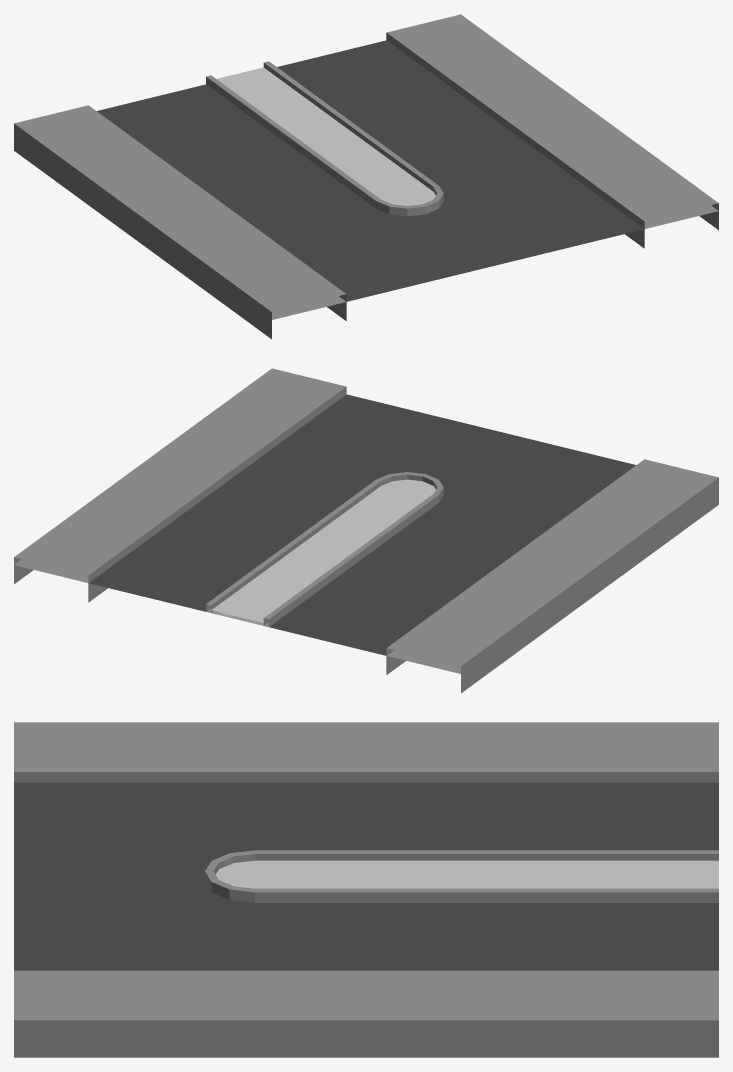
3 views of the same model, one above another, from view 1: azimuth 30°, elevation 25°; view 2: azimuth 150°, elevation 25°; view 3: azimuth 270°, elevation 25° (orthographic). The views are drawn at different scales.
Visible parts, largest first — view 1: Model_0, Skybox, Grass; view 2: Model_0, Grass, Skybox; view 3: Model_0, Skybox, Grass.
Boxes of the visible parts, bbox=[...] form: Model_0: bbox=[14, 14, 718, 339]; Skybox: bbox=[98, 90, 718, 319]; Grass: bbox=[217, 67, 435, 205]; Model_0: bbox=[14, 368, 718, 693]; Grass: bbox=[211, 479, 435, 622]; Skybox: bbox=[14, 440, 622, 673]; Model_0: bbox=[14, 722, 718, 1057]; Skybox: bbox=[14, 782, 718, 880]; Grass: bbox=[215, 860, 718, 888].
Size of what is drawn, in the model's own units: 2400 by 140 by 2400.
